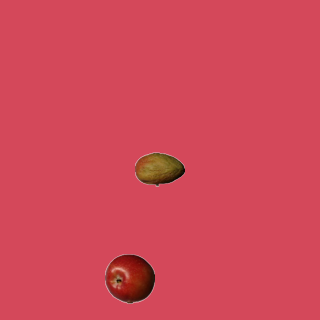Apple Braeburn: (104, 253, 154, 303)
Papaya: (134, 144, 184, 194)
